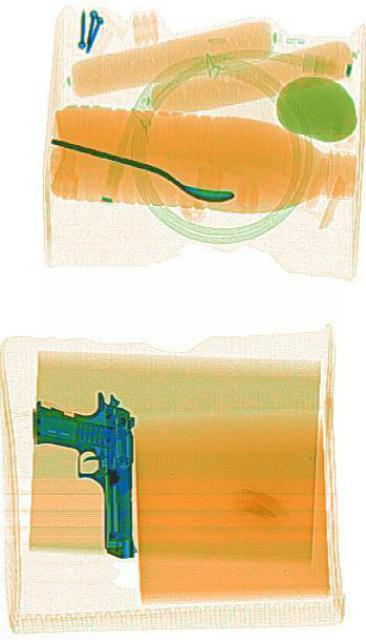Gun: (30, 389, 135, 557)
